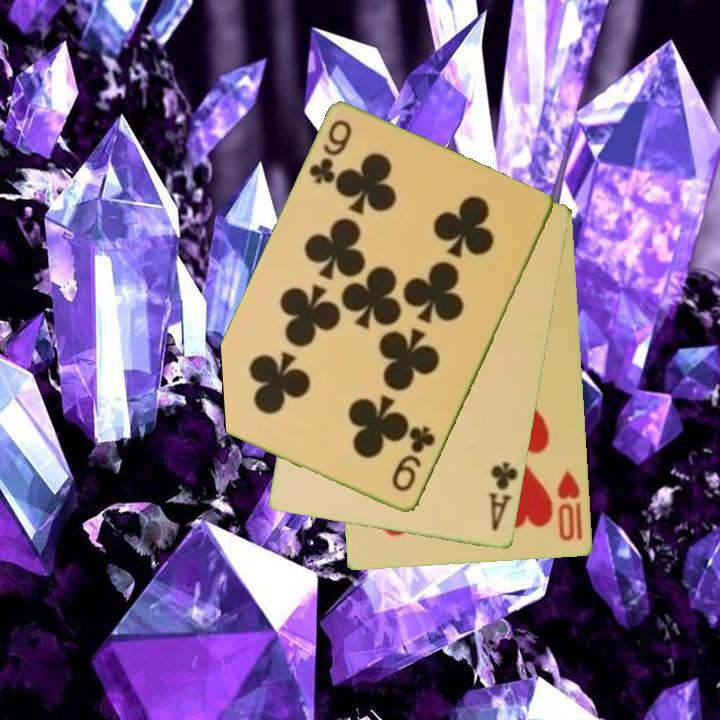10h: (554, 467, 586, 544)
9c: (388, 422, 439, 496), (305, 116, 355, 188)
Ac: (485, 459, 521, 535)
